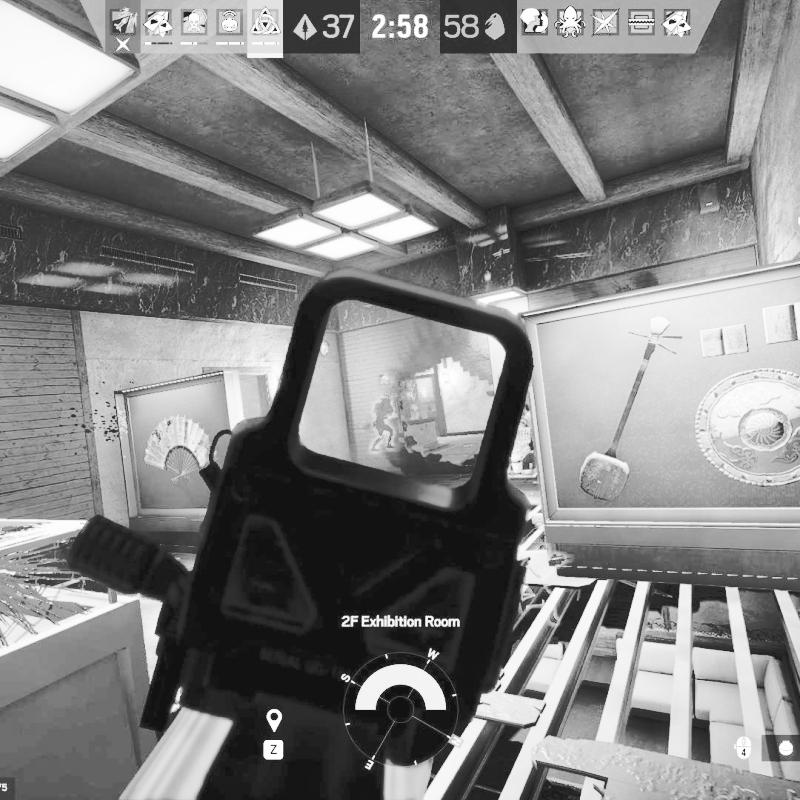Friend_label: (365, 372, 401, 398)
